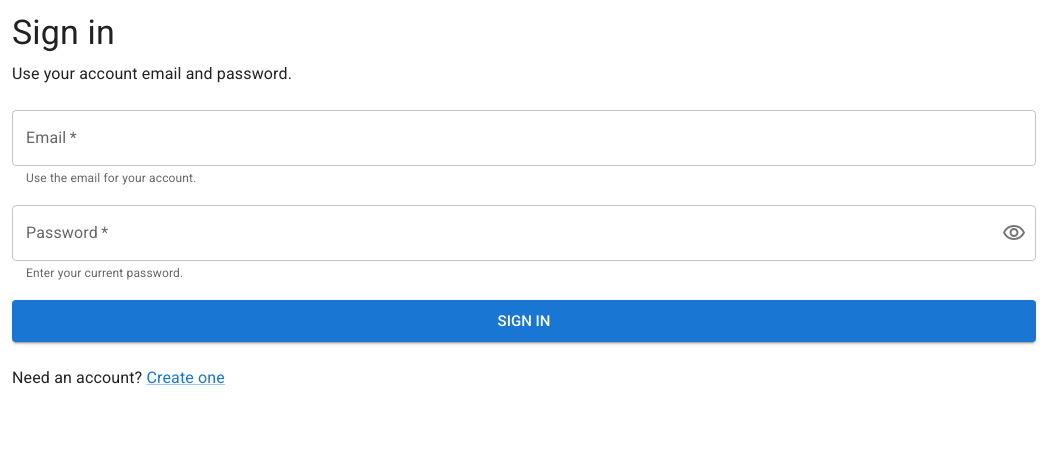
Test: AuthForm › shows the same public login message for INVALID_CREDENTIALS
The image size is (1048, 474).
Type "person@example.com" into the field labelled "Email *".
click(524, 138); type("person@example.com")  # box [12,110,1036,166]
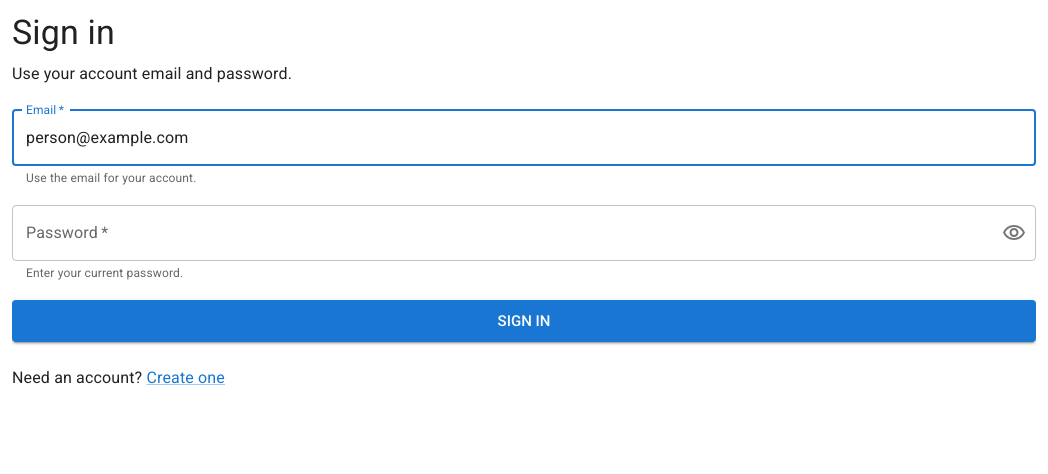
Type "wrong-password" into the password field labelled "Password *".
click(499, 233); type("wrong-password")  # box [12,205,986,261]
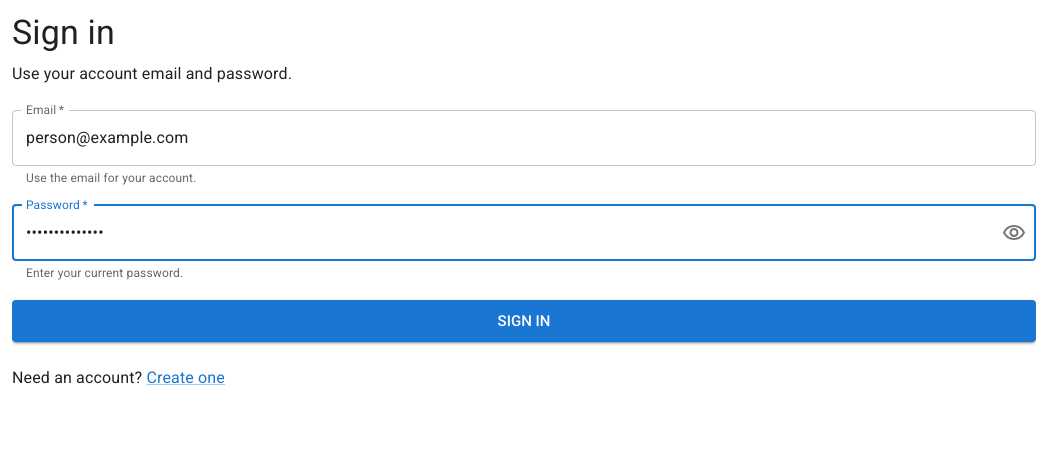
Click the button "Sign in".
click(524, 321)  # box [12,300,1036,342]
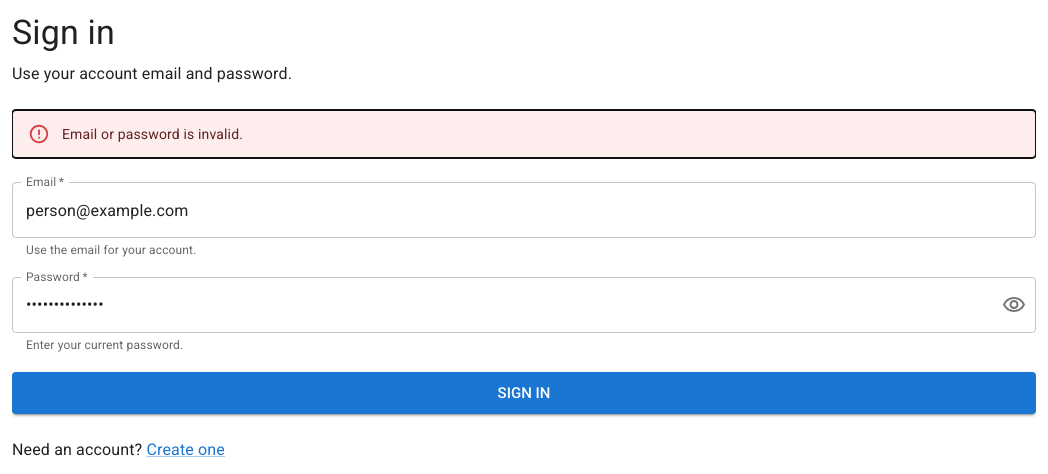
expect the message reads "Email or password is invalid.": met, box [62,126,243,142]
